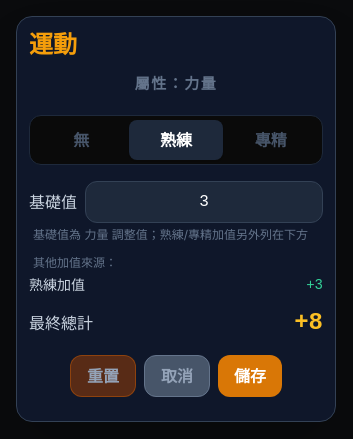
Scenario: SkillAdjustModal › 切換為「無」時，不顯示熟練加值，最終總計只剩基礎值與其他加值
The image size is (353, 439).
Step 1. Click the button "無" → (81,140), box top-left (34, 120), bottom-right (129, 160)
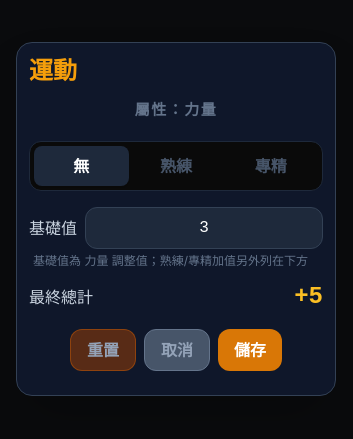
Now the text "熟練加值" is gone
Now the text "最終總計" shows "+5", box top-left (29, 281), bottom-right (323, 313)
